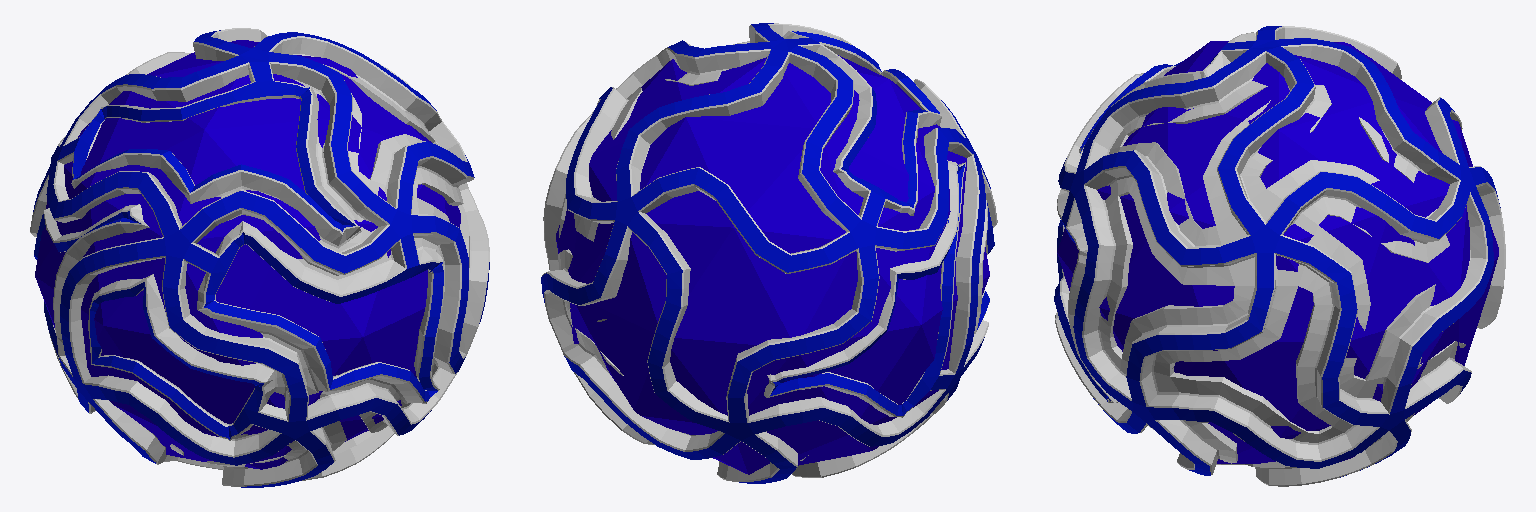
Rendered from flavivirus.obj.
3 views of the same model, side by side, from view 1: azimuth 30°, elevation 25°; view 2: azimuth 150°, elevation 25°; view 3: azimuth 270°, elevation 25° (orthographic).
Parts seen in each view (by area): view 1: Icosphere_Icosphere.002; view 2: Icosphere_Icosphere.002; view 3: Icosphere_Icosphere.002.
Part boxes in pixels (x1,y1,x2,y2): Icosphere_Icosphere.002: (30,28,489,487); Icosphere_Icosphere.002: (541,23,997,483); Icosphere_Icosphere.002: (1054,26,1505,486).
Size of the model in its own units: 47.62 by 47.54 by 46.75.